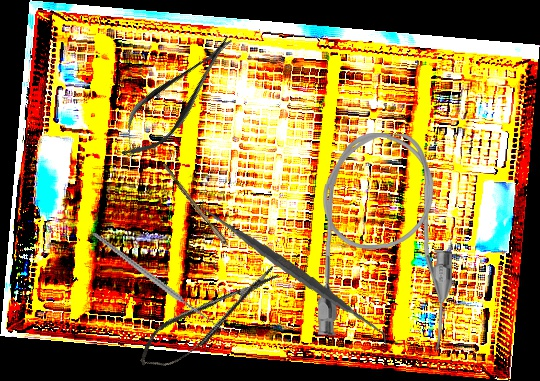Cannula: (317, 132, 455, 351)
Hook Surgical: (91, 197, 235, 365)
Micro Scissor: (104, 22, 250, 172), (129, 257, 290, 379)
Spatula Surgical: (201, 183, 388, 361)
Surgical Spoon: (160, 162, 251, 274)
